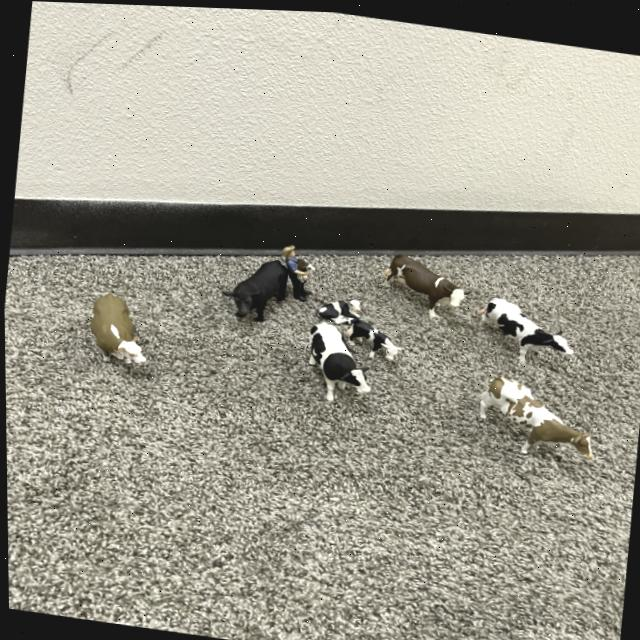cow: (467, 365, 600, 484), (467, 286, 576, 379), (376, 244, 467, 324), (215, 244, 300, 329), (295, 312, 370, 407), (330, 306, 402, 367), (315, 296, 360, 322), (296, 252, 315, 281)
person: (279, 242, 300, 271), (625, 527, 628, 533)
